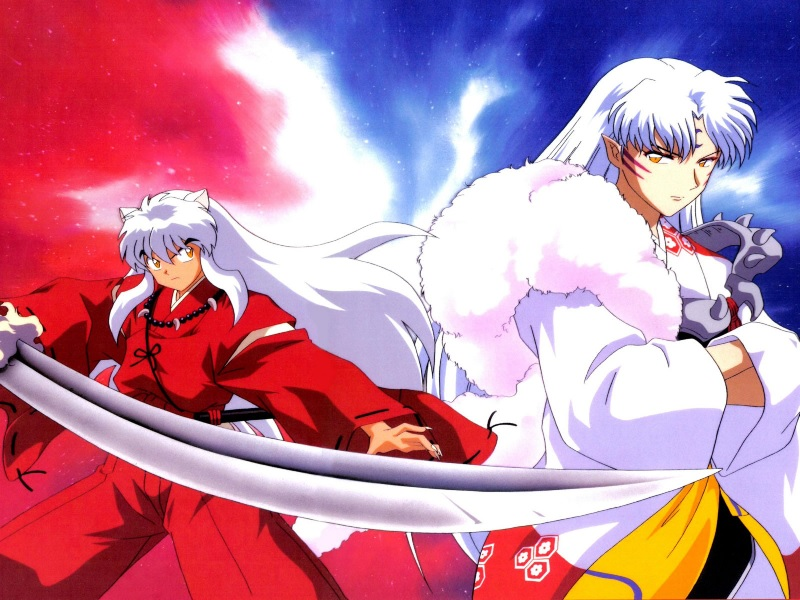sesshomaru: (576, 57, 756, 264)
